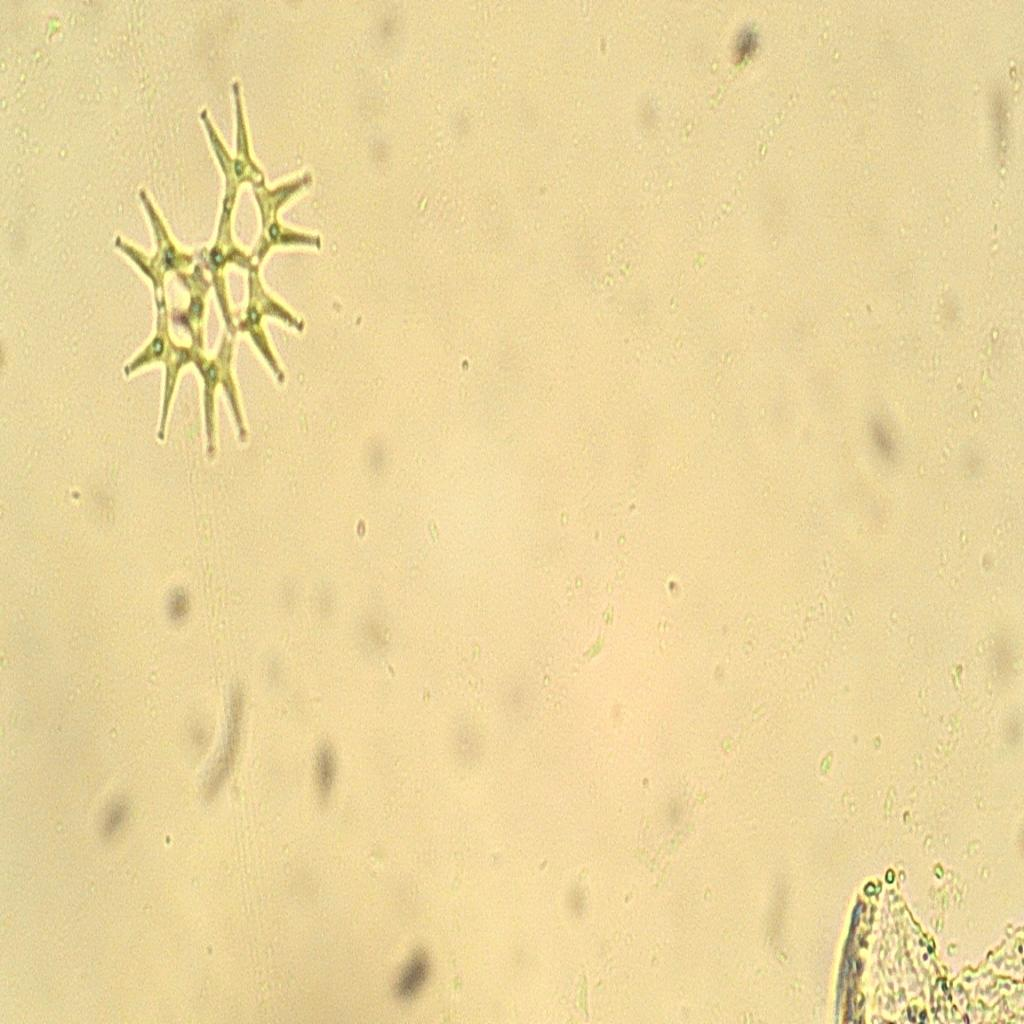Pediastrum_CFI: (103, 64, 341, 480)
